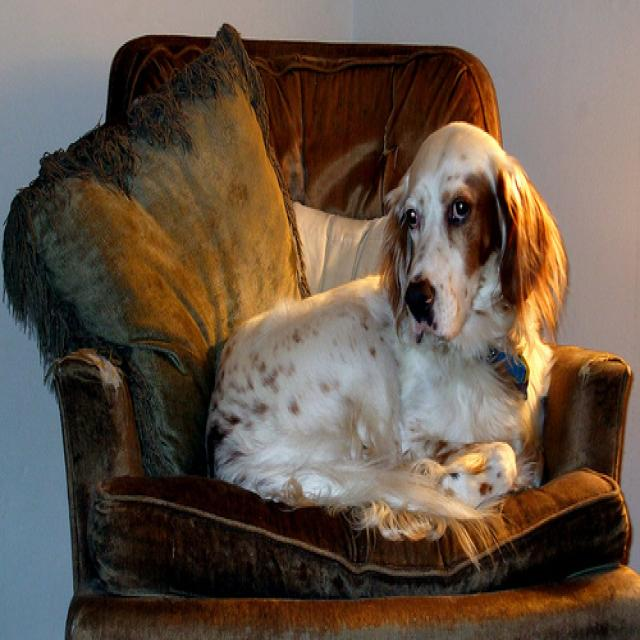dog: (380, 119, 565, 334)
